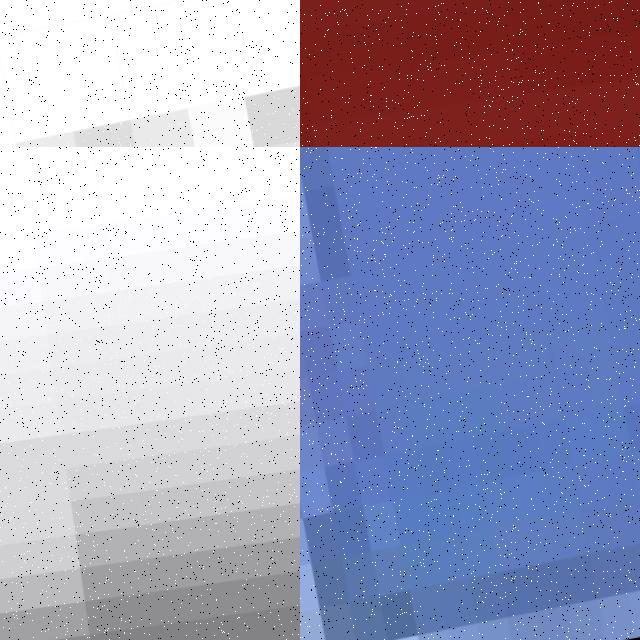drone: (300, 147, 640, 640), (0, 0, 300, 147)
